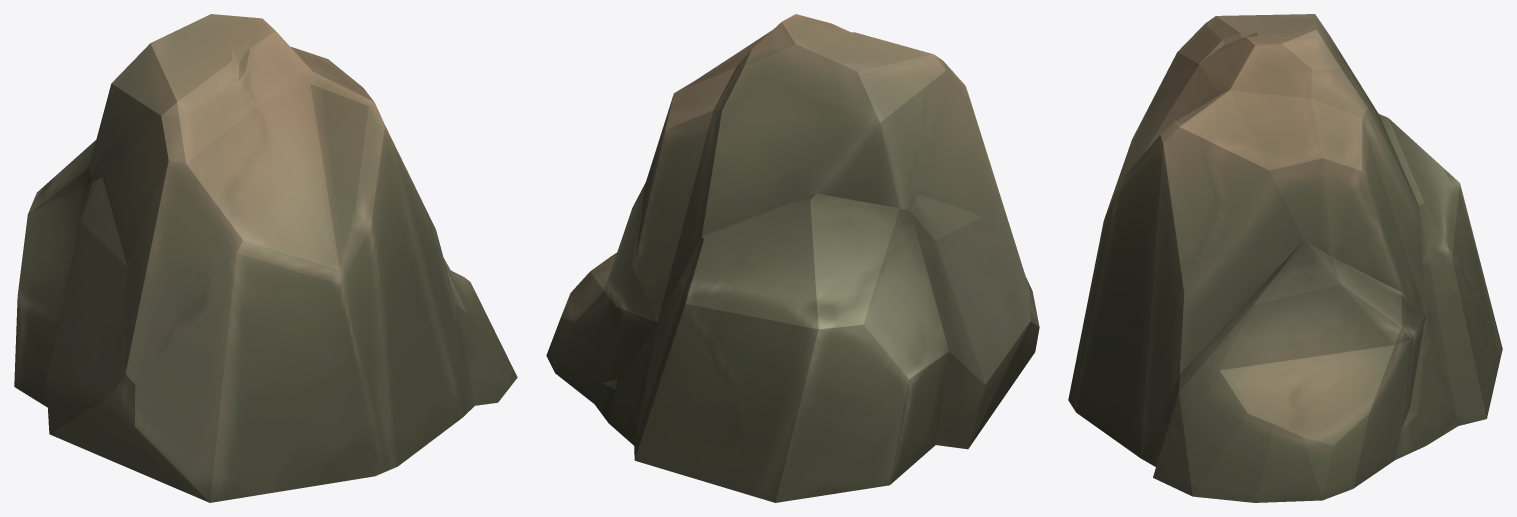
File: CBS_nat_Rock_A.FBX
The picture shows the model from 3 angles, left to right: view 1: azimuth 30°, elevation 25°; view 2: azimuth 150°, elevation 25°; view 3: azimuth 270°, elevation 25°; orthographic projection. The views are drawn at different scales.
Visible parts, largest first — view 1: CBS_nat_Rock_A; view 2: CBS_nat_Rock_A; view 3: CBS_nat_Rock_A.
Part boxes in pixels (left/top/right/bottom): CBS_nat_Rock_A: left=14, top=14, right=517, bottom=502; CBS_nat_Rock_A: left=546, top=14, right=1039, bottom=502; CBS_nat_Rock_A: left=1068, top=14, right=1502, bottom=502.
Size of the model in its own units: 103 by 85.4 by 94.37.
